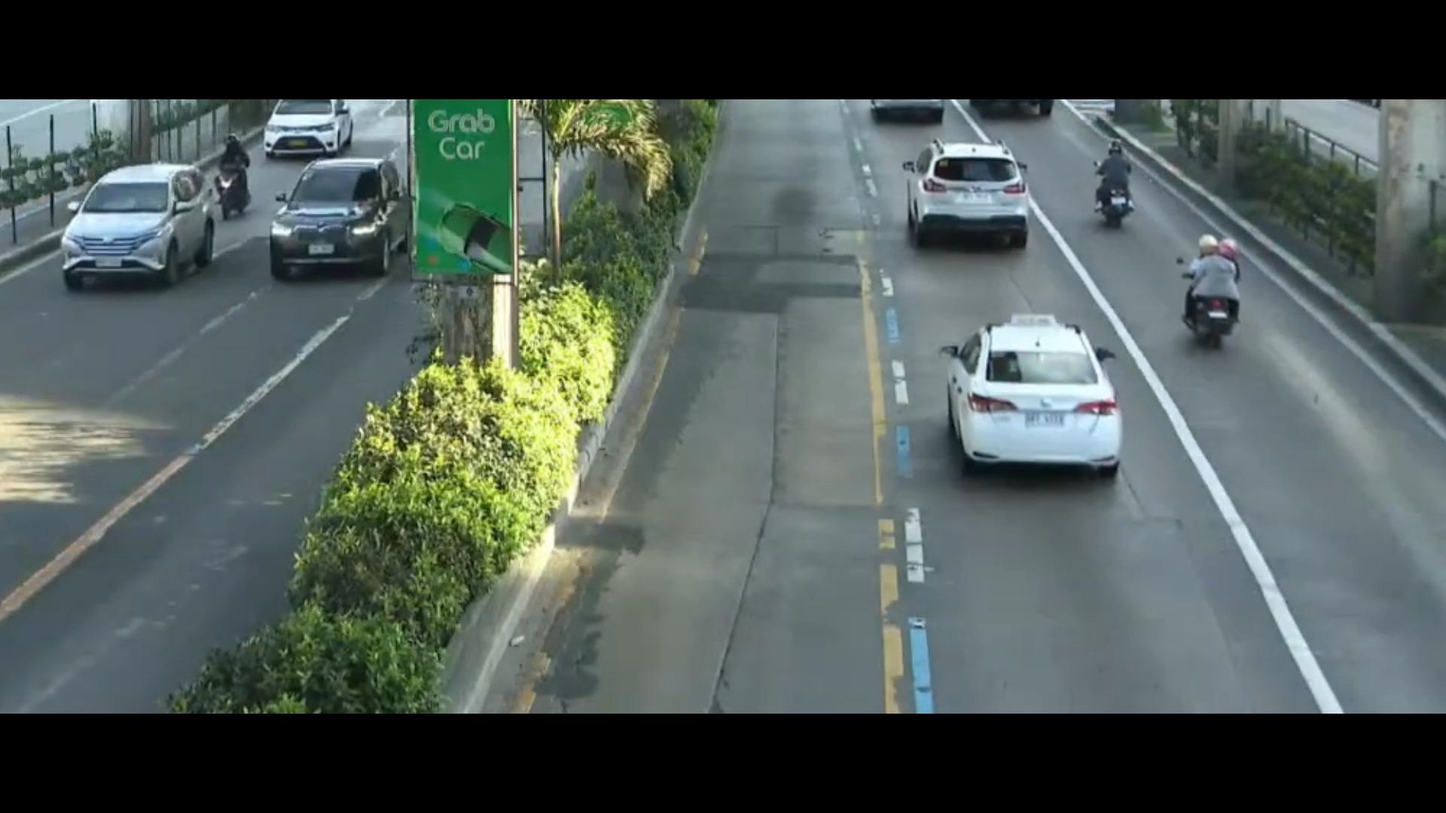Motorcycle: (1159, 221, 1249, 354), (1091, 111, 1141, 241), (213, 125, 264, 200)
SUV: (46, 155, 234, 292), (278, 142, 413, 276), (898, 126, 1040, 244), (254, 99, 356, 167)
Sedan: (895, 292, 1170, 496)
